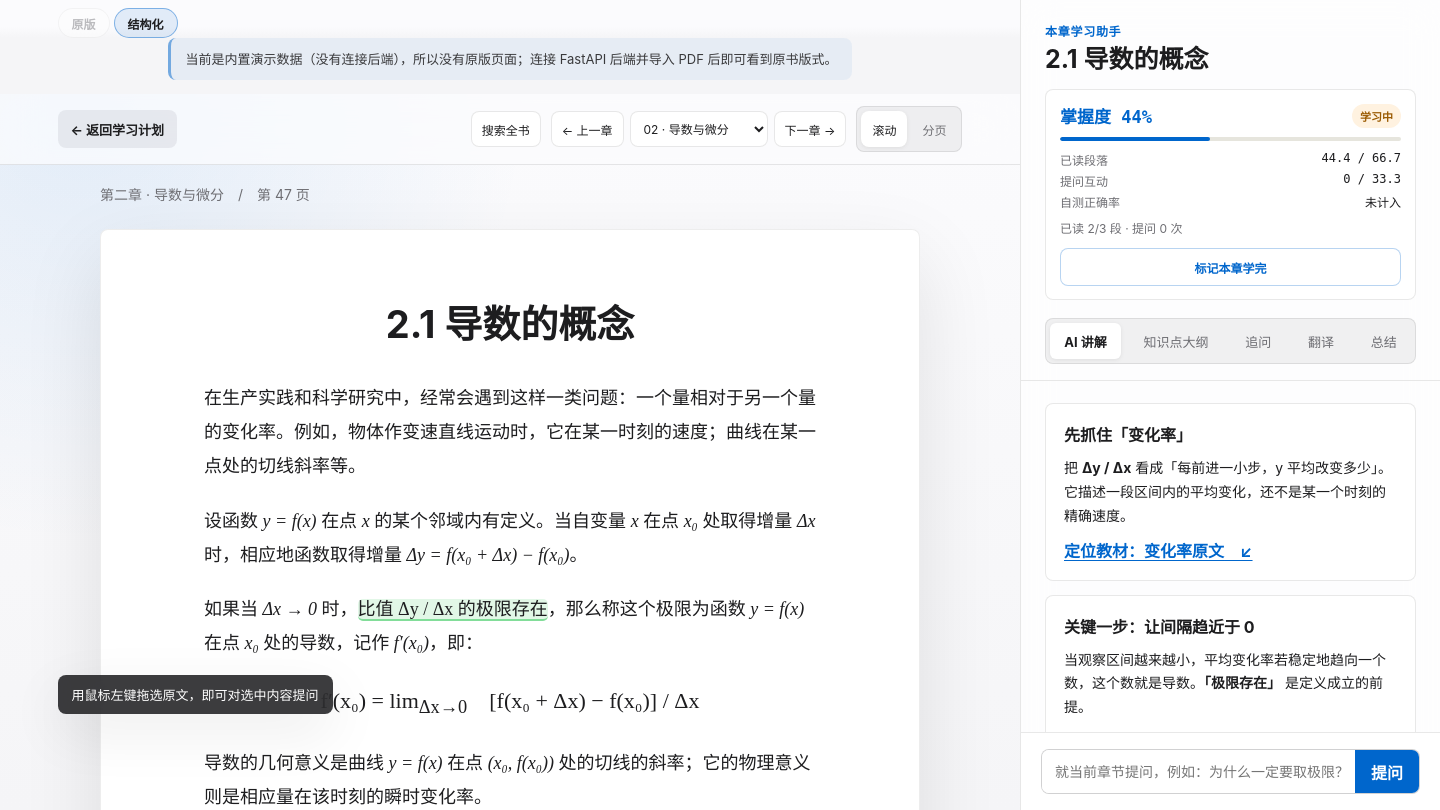
Test: 真实掌握度 › 可以手动标记本章学完，状态变为已掌握
Expected: the element with test id "mastery-panel" is shown, [1045,89,1416,300]
Click the button "标记本章学完" at x=1230, y=267, box [1060,248,1401,286]
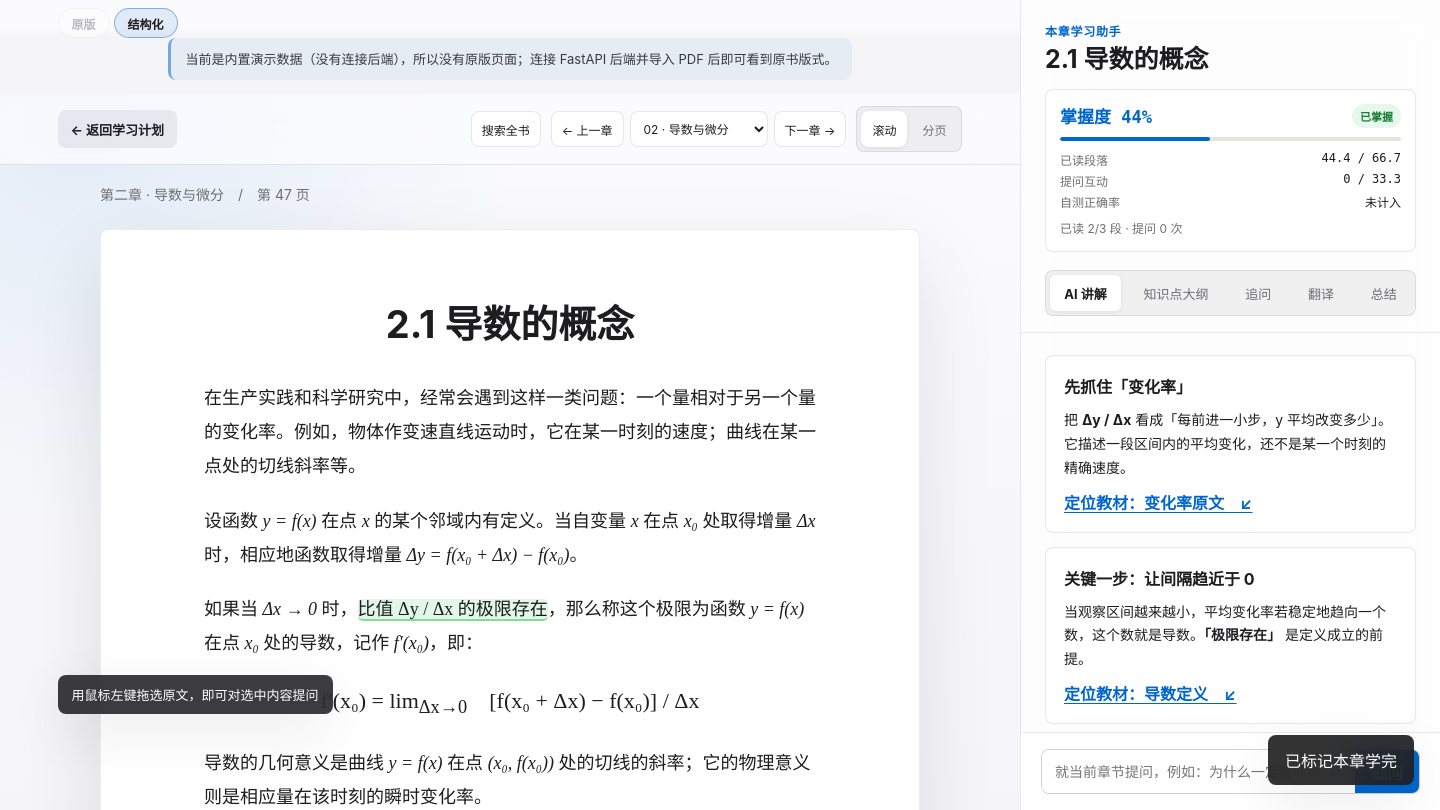
Result: the text "已掌握" is shown at [1352,104,1401,128]
